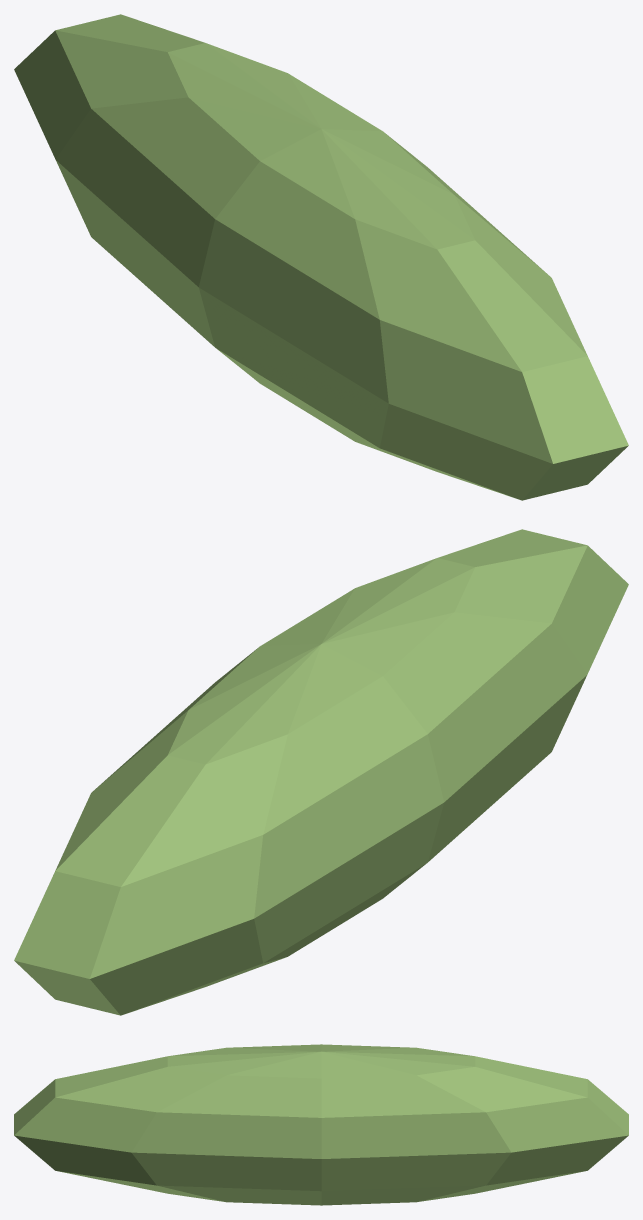
File: supermarket-operations-cucumber-c9aa3253.glb
3 views of the same model, one above another, from view 1: azimuth 30°, elevation 25°; view 2: azimuth 150°, elevation 25°; view 3: azimuth 270°, elevation 25° (orthographic). The views are drawn at different scales.
Visible parts, largest first — view 1: cucumber; view 2: cucumber; view 3: cucumber.
Part boxes in pixels (left/top/right/bottom): cucumber: left=14, top=14, right=628, bottom=500; cucumber: left=14, top=529, right=628, bottom=1015; cucumber: left=14, top=1044, right=628, bottom=1205.
Bounding box in the file's own units: 0.05 × 0.05 × 0.1902.
